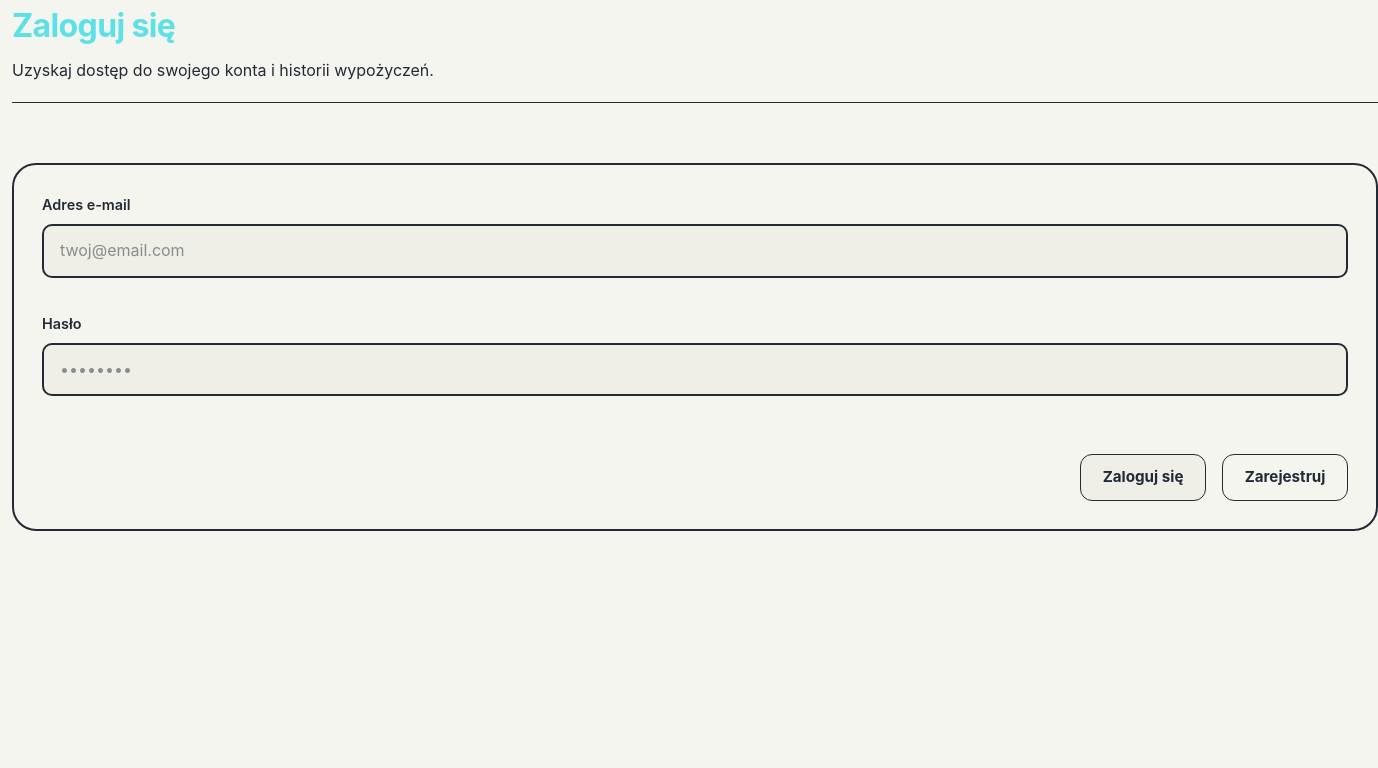
Test case: Login page › shows an error when login fails
Type "admin@biblioteka.pl" into the field labelled "Adres e-mail" at (695, 251), box [42, 224, 1348, 278]
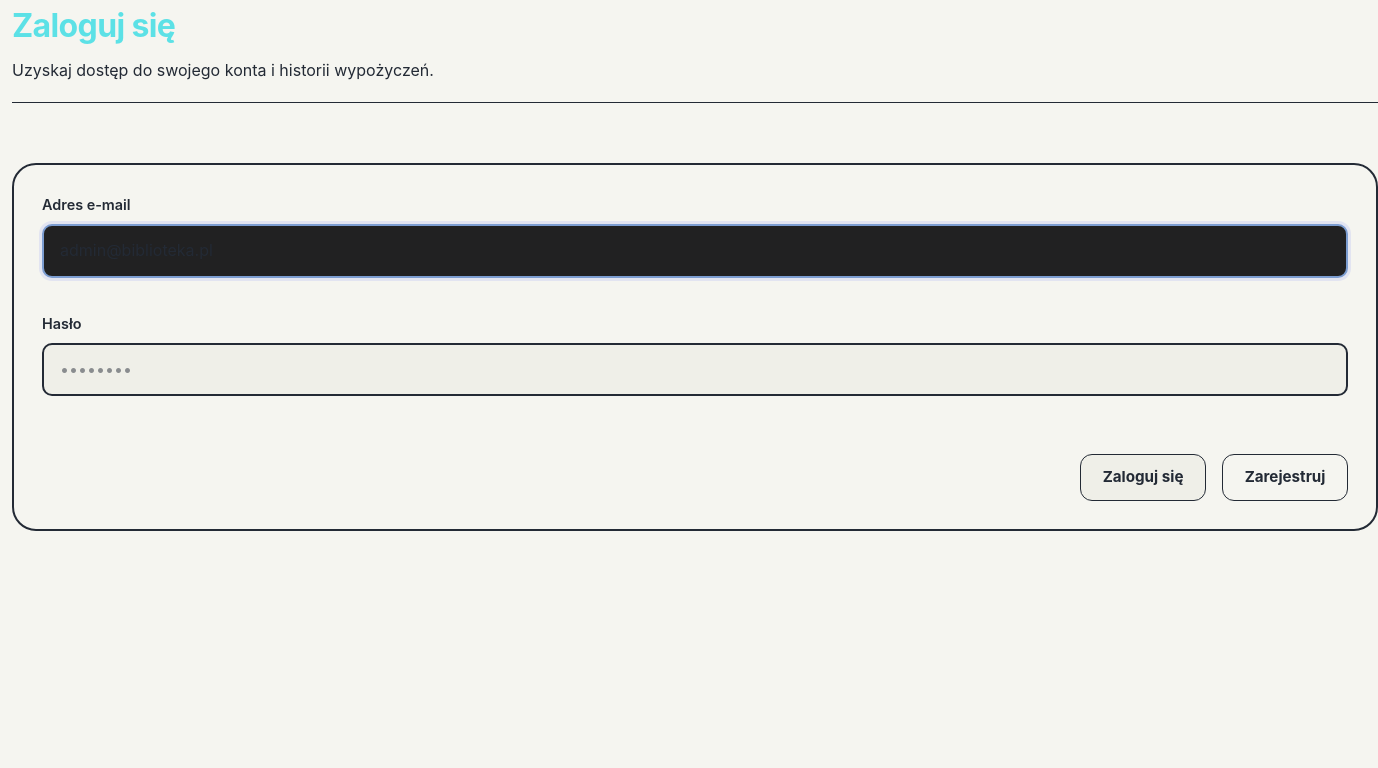
Type "wrong" into the password field labelled "Hasło" at (695, 369), box [42, 343, 1348, 396]
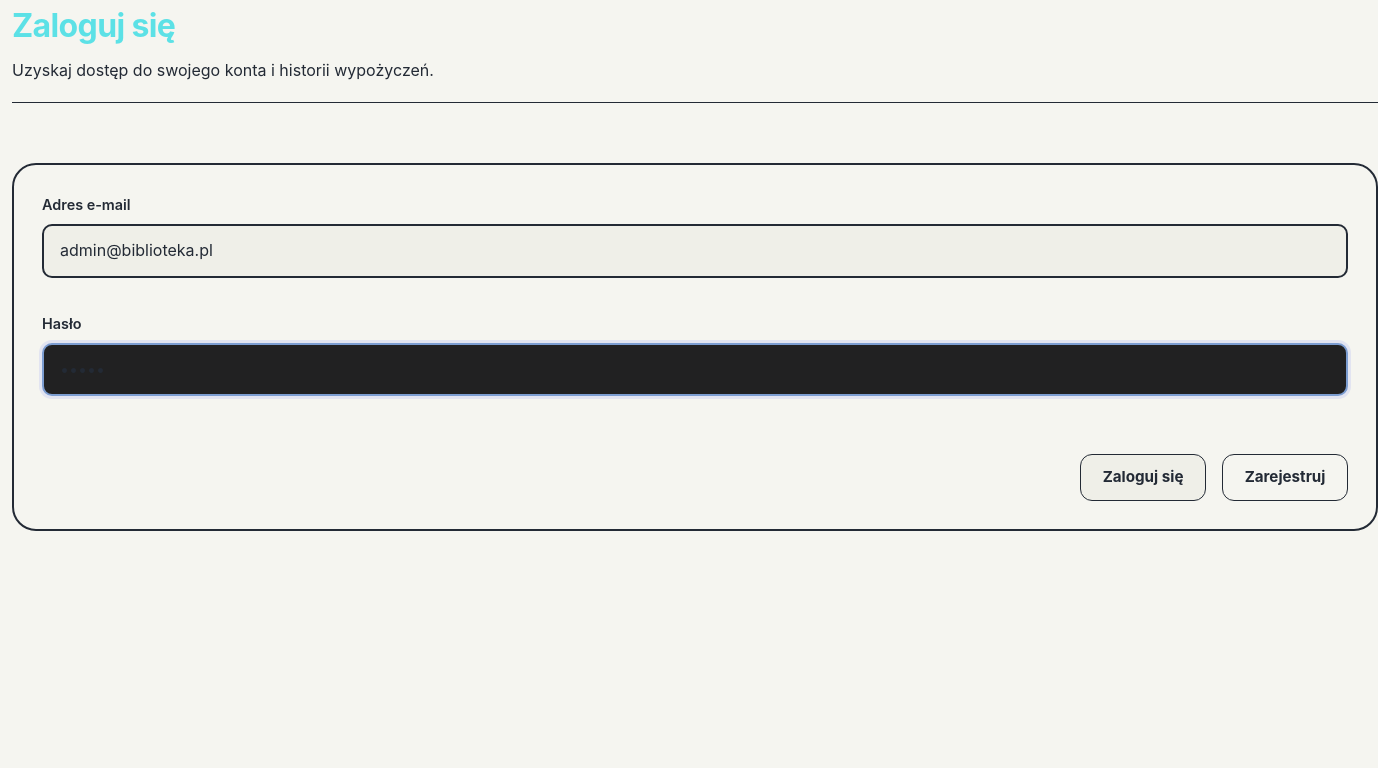
Click the button "Zaloguj się" at (1143, 477), box [1080, 454, 1206, 501]
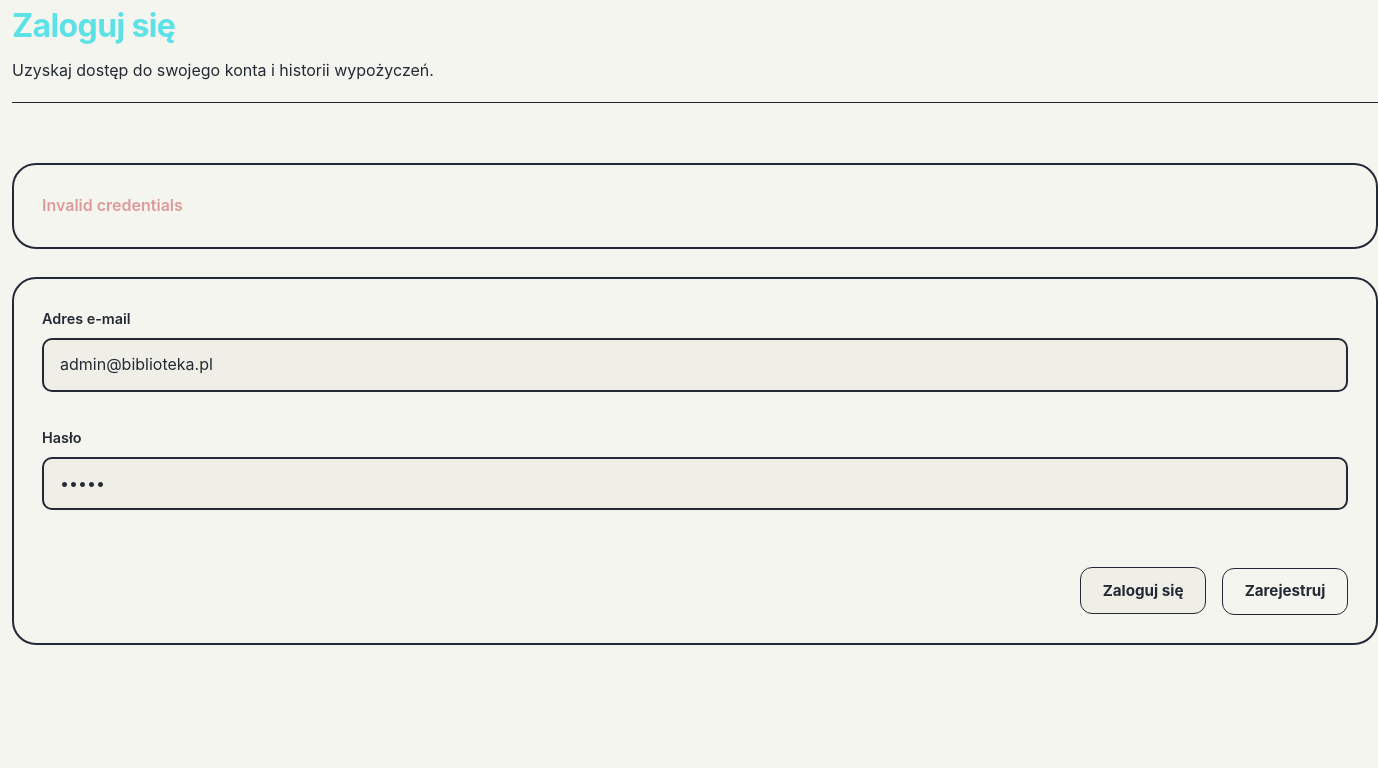
Now the text "Invalid credentials" is shown, box [42, 195, 183, 215]
